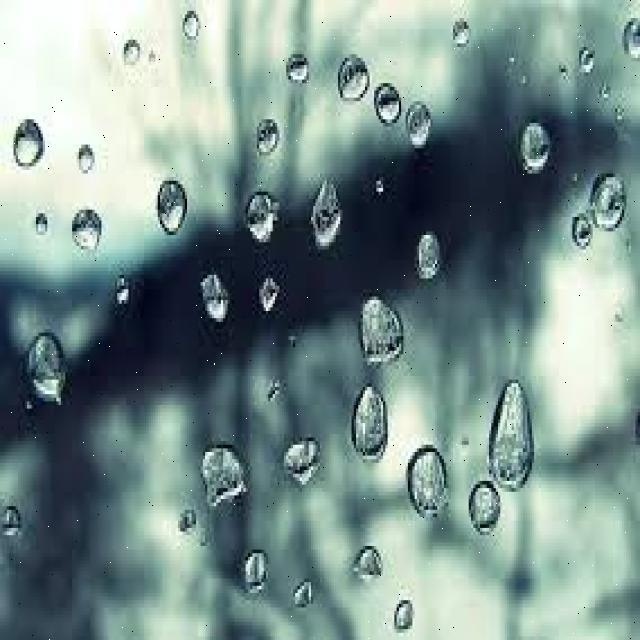raindrop: (487, 356, 548, 514), (332, 366, 400, 484), (350, 265, 414, 389), (190, 424, 260, 524), (300, 154, 356, 262), (402, 431, 459, 536), (19, 316, 77, 418), (275, 421, 335, 506), (234, 174, 294, 258), (227, 536, 279, 611), (190, 256, 237, 338), (8, 109, 56, 188), (466, 468, 506, 560), (153, 167, 200, 245), (331, 38, 376, 114), (406, 213, 448, 291), (591, 162, 631, 242), (368, 66, 408, 146), (65, 198, 112, 266), (398, 88, 441, 162), (517, 113, 560, 186), (247, 104, 289, 174), (350, 533, 390, 600), (280, 41, 324, 97)
